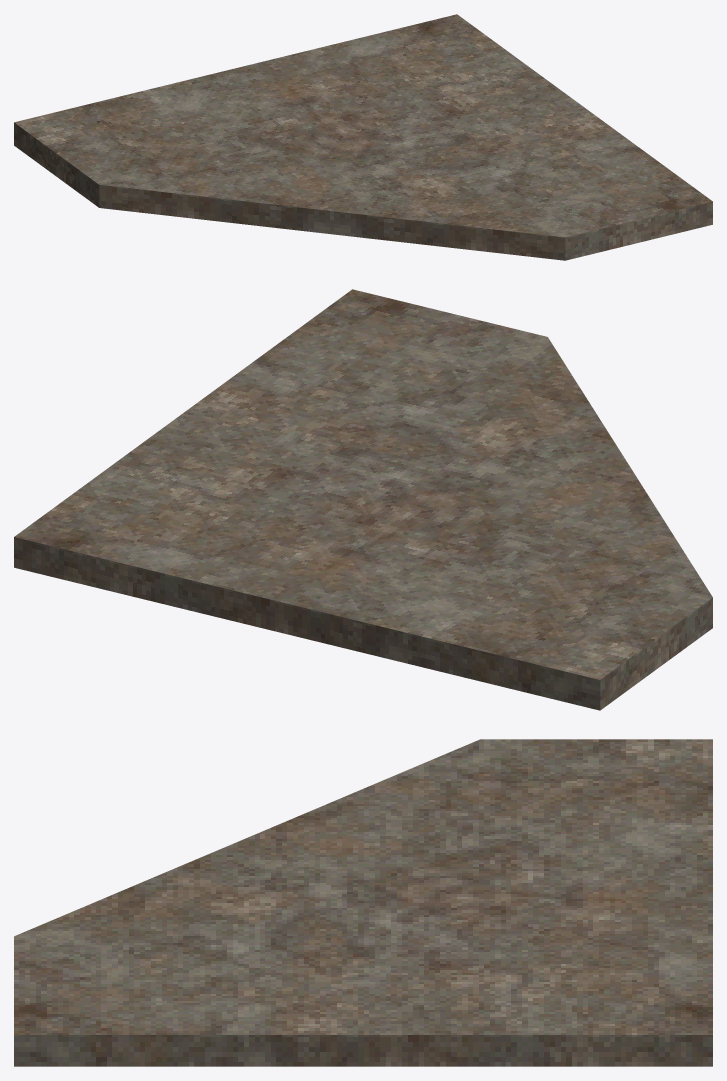
The model's file is roof_concrete_01.gltf.
The picture shows the model from 3 angles, top to bottom: view 1: azimuth 30°, elevation 25°; view 2: azimuth 150°, elevation 25°; view 3: azimuth 270°, elevation 25°; orthographic projection. The views are drawn at different scales.
Visible parts, largest first — view 1: roof_concrete_01; view 2: roof_concrete_01; view 3: roof_concrete_01.
Part boxes in pixels (bbox=[...]): roof_concrete_01: bbox=[14, 14, 712, 260]; roof_concrete_01: bbox=[14, 289, 712, 710]; roof_concrete_01: bbox=[14, 739, 712, 1066].
Bounding box in the file's own units: 3 × 0.15 × 3.
Materials: 1 (1 with a texture image).
